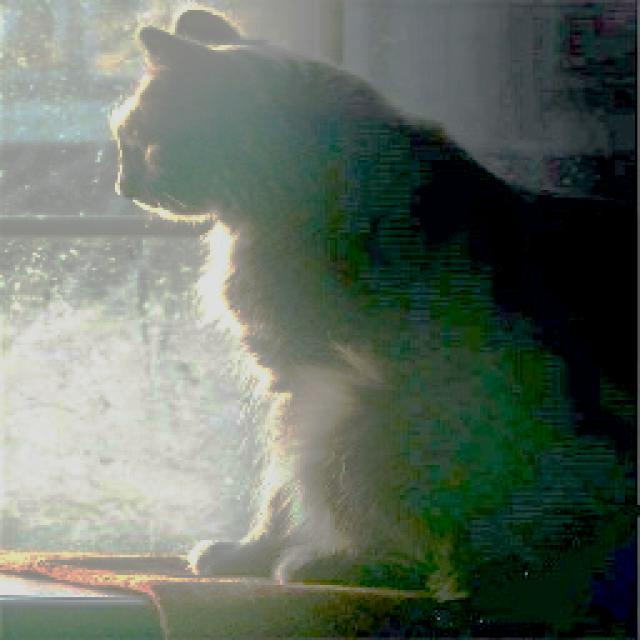cat: (111, 9, 640, 602)
